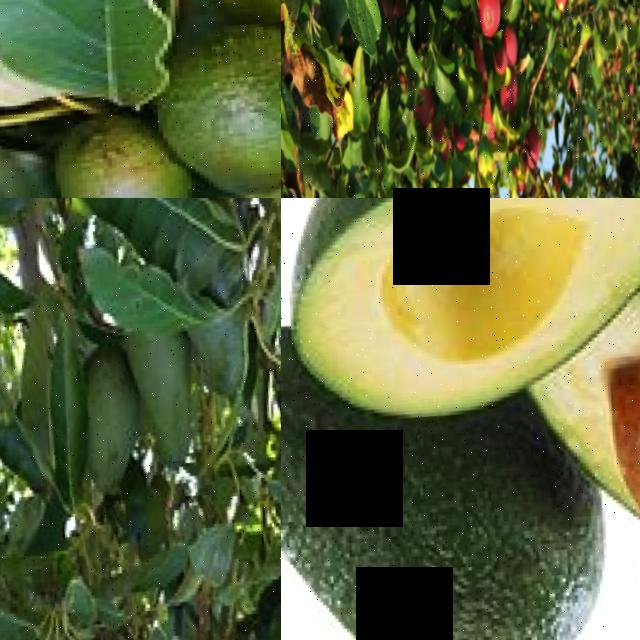apple: (527, 113, 554, 168), (480, 0, 511, 44), (501, 66, 527, 114), (507, 17, 528, 70), (281, 0, 299, 42), (558, 0, 578, 14)
avocado: (281, 198, 640, 441), (281, 422, 615, 640), (509, 200, 640, 593), (145, 12, 281, 198), (129, 311, 211, 492), (47, 101, 197, 198), (73, 343, 155, 500), (190, 289, 265, 414)
